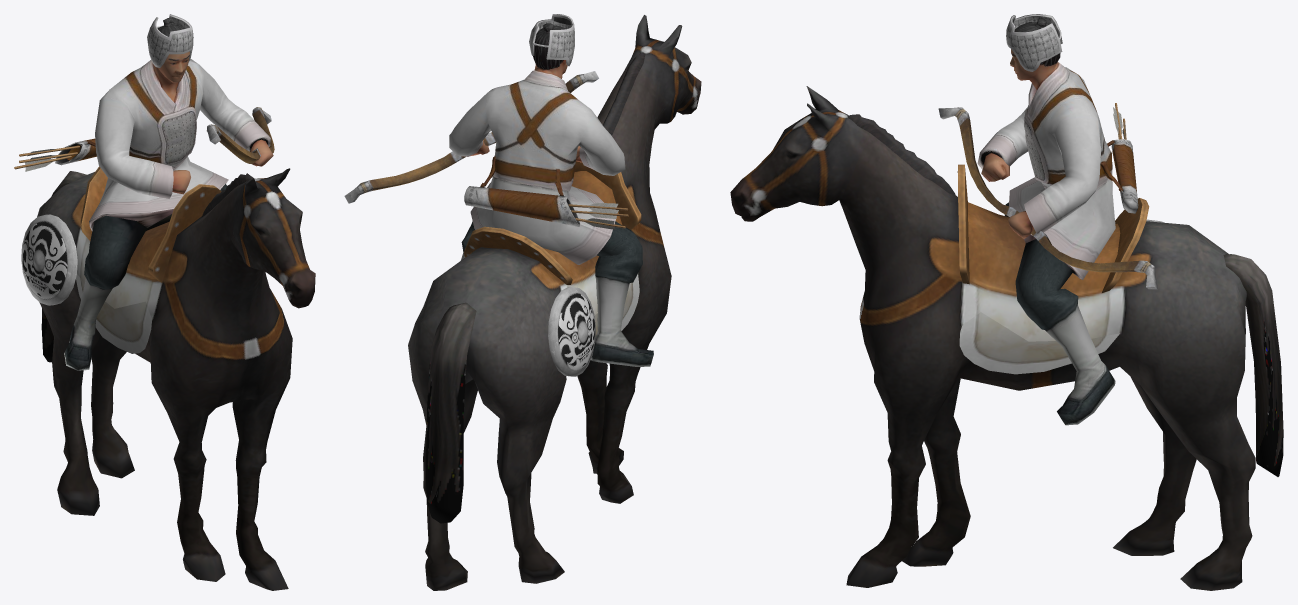
File: 154-bowcavalry.glb
3 renders of one model, left to right at view 1: azimuth 30°, elevation 25°; view 2: azimuth 150°, elevation 25°; view 3: azimuth 270°, elevation 25°, orthographic. The views are drawn at different scales.
Size of the model in its own units: 1.61 by 2.92 by 2.65.
Materials: 5 (5 with a texture image).
